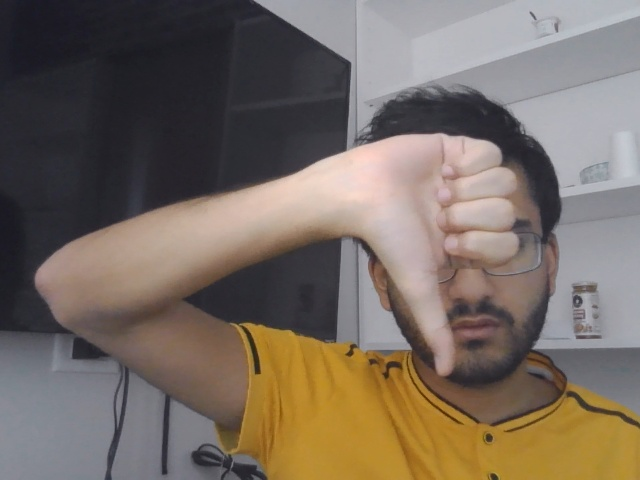ThumbsDown: (349, 132, 521, 377)
